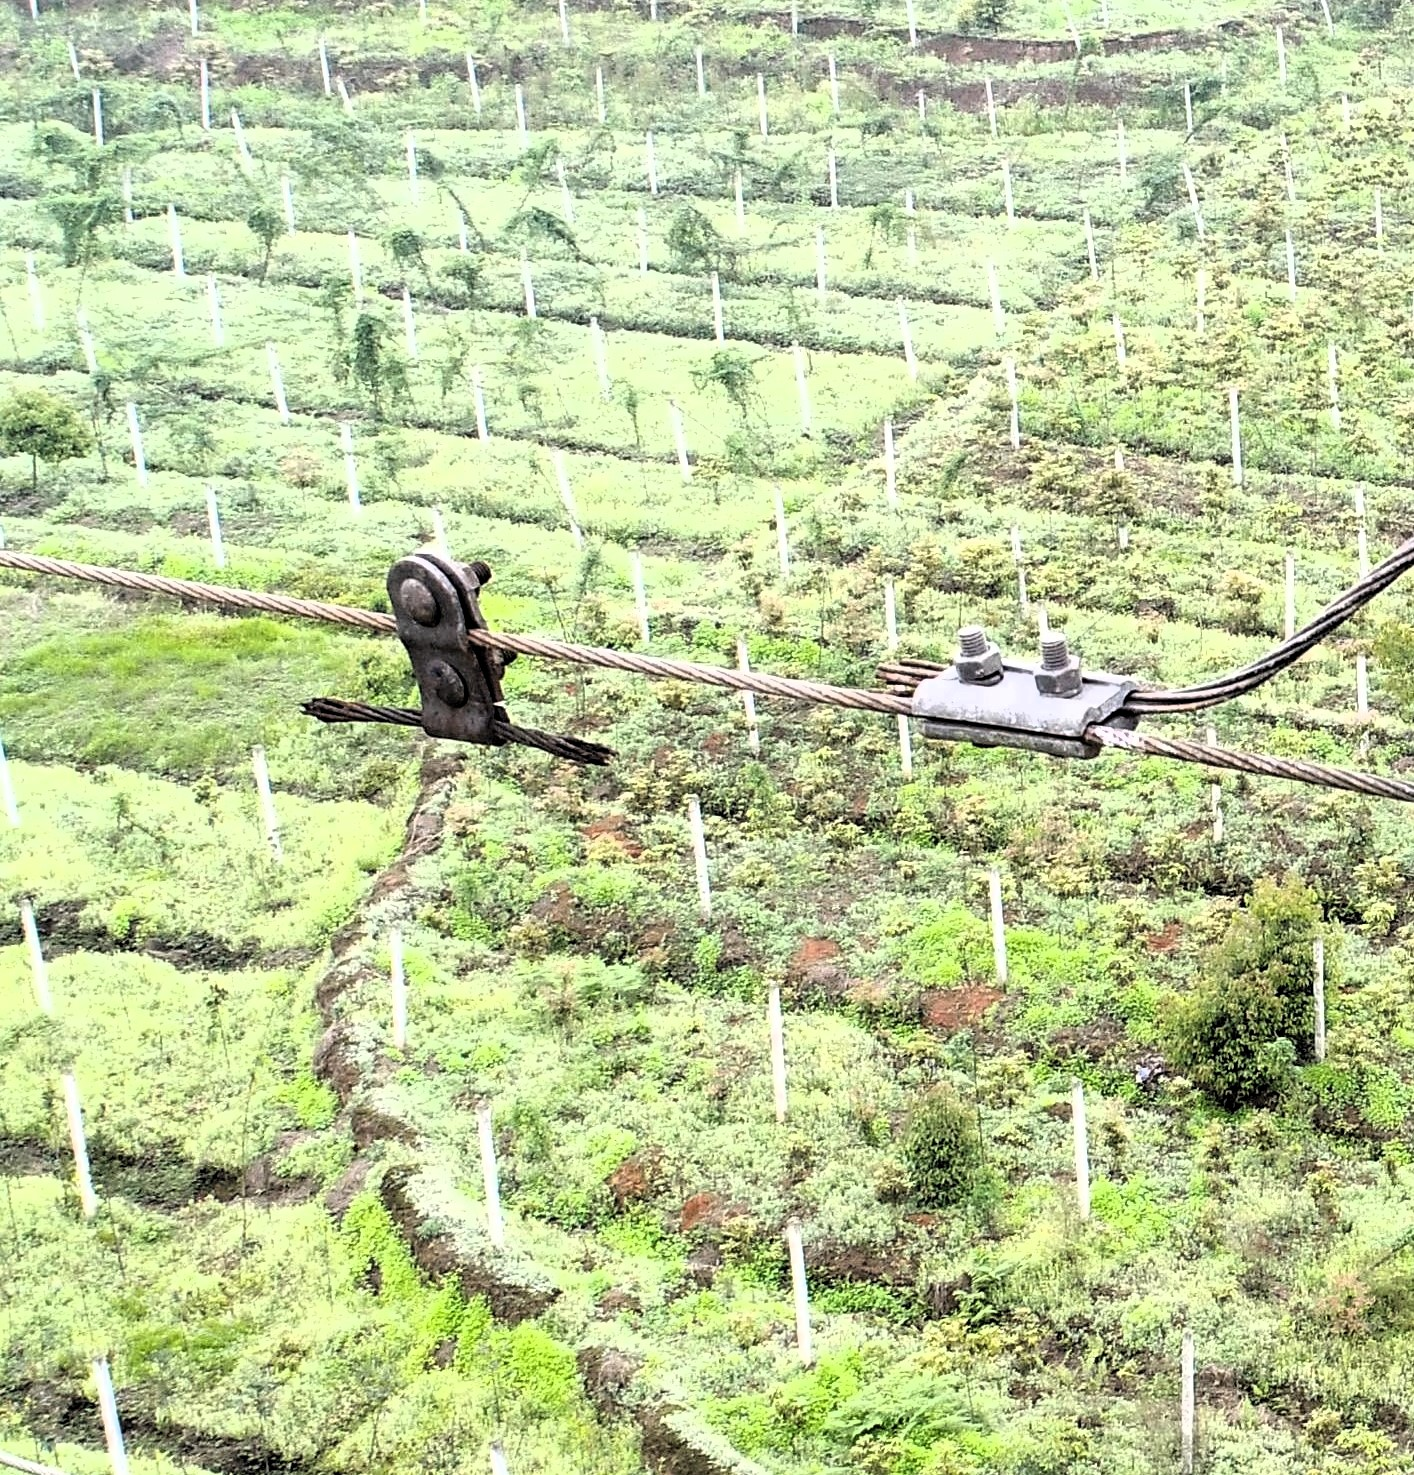Damage of shockproof hammer: (282, 518, 632, 791)
